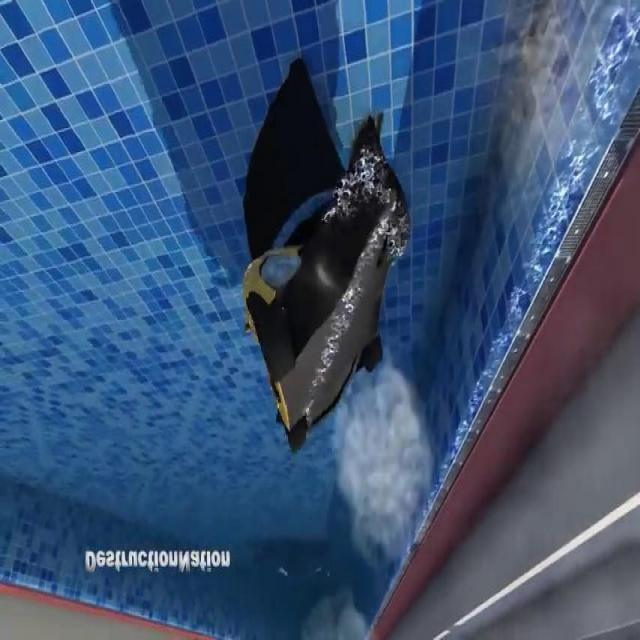severe: (238, 53, 412, 463)
